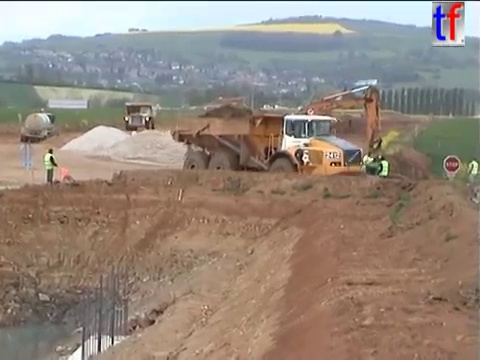excavator: (207, 81, 390, 181)
truck: (168, 108, 367, 189), (18, 109, 56, 144), (122, 99, 156, 133)
worker: (42, 145, 60, 186), (373, 153, 392, 186), (464, 155, 480, 187), (361, 148, 376, 179)
